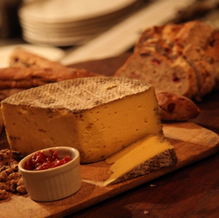soup: (112, 21, 219, 122)
sushi: (17, 0, 146, 47), (18, 146, 82, 202)
